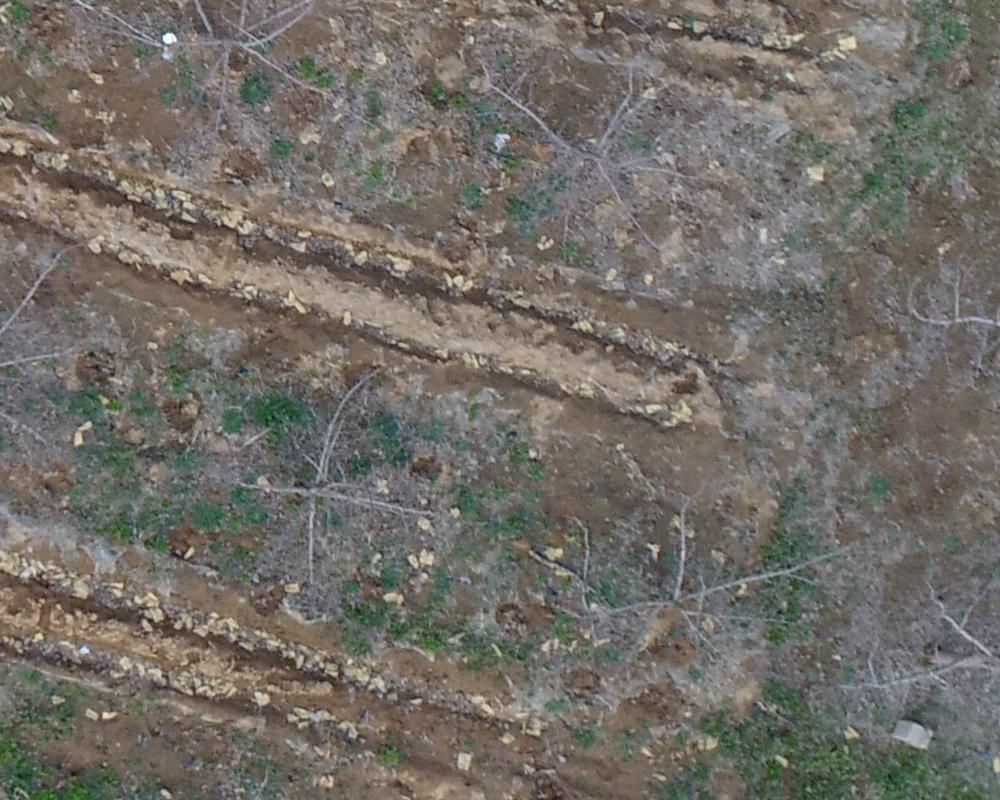apple: (518, 486, 835, 704), (218, 362, 447, 615), (459, 55, 696, 284), (832, 540, 990, 782), (51, 10, 357, 128)
